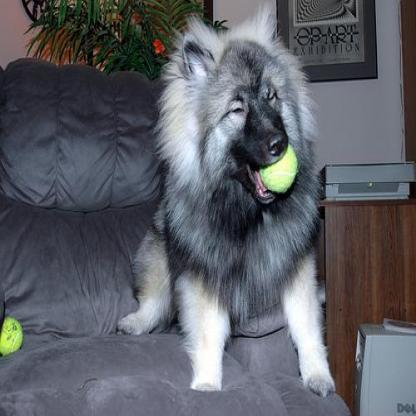keeshond: (116, 6, 334, 394)
